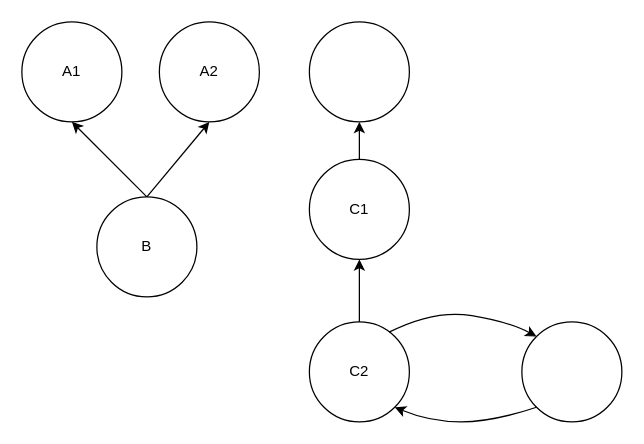
The diagram is 644 pixels wide and 444 high, and some of its shapes have lost their labels. Here are the shapes that lost their labels. From the top down, the centre of each, then its label:
At point 358,71: "A3".
At point 571,371: "C3".
